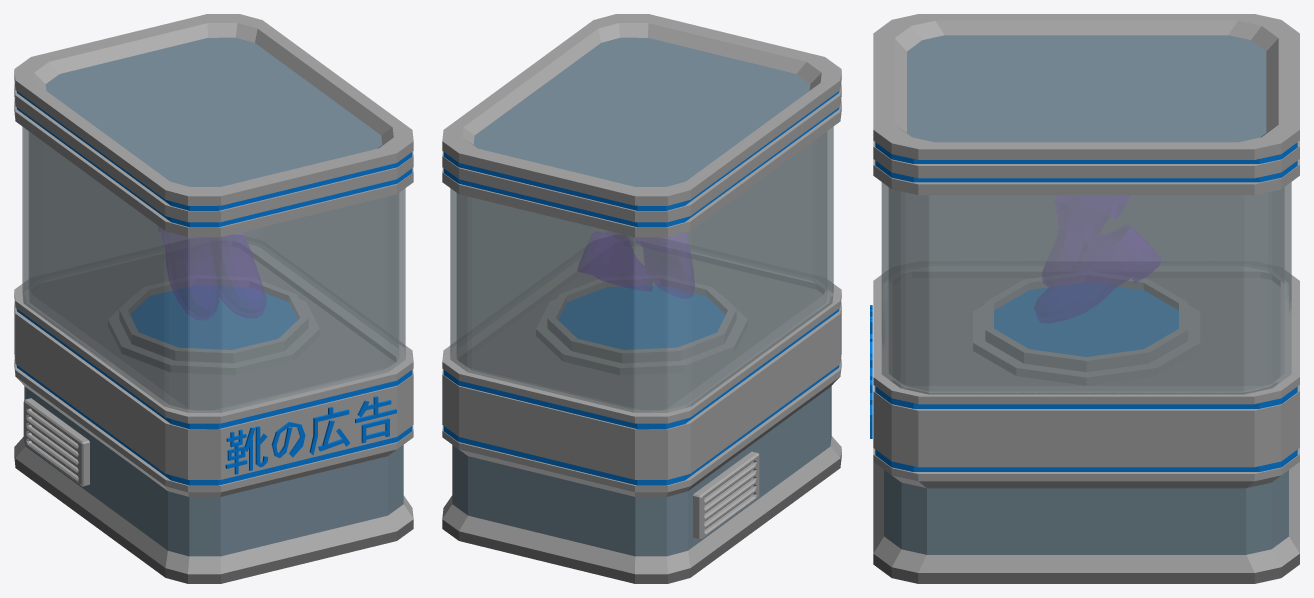
Rendered from short03.fbx.
3 views of the same model, side by side, from view 1: azimuth 30°, elevation 25°; view 2: azimuth 150°, elevation 25°; view 3: azimuth 270°, elevation 25° (orthographic). The views are drawn at different scales.
Parts seen in each view (by area): view 1: baseMini10, baseMini11, pCylinder9, Mini_03, typeMesh4, pasted__pasted__pPlane47; view 2: baseMini10, baseMini11, pCylinder9, Mini_03, pasted__pasted__pPlane47; view 3: baseMini10, baseMini11, pCylinder9, Mini_03.
Boxes of the visible parts, <box> form: baseMini10: <box>14,14,413,583</box>; baseMini11: <box>22,126,405,412</box>; pCylinder9: <box>108,281,319,374</box>; Mini_03: <box>158,227,265,319</box>; typeMesh4: <box>225,396,396,474</box>; pasted__pasted__pPlane47: <box>23,398,89,486</box>; baseMini10: <box>442,14,841,583</box>; baseMini11: <box>450,126,833,412</box>; pCylinder9: <box>536,279,747,374</box>; Mini_03: <box>578,231,694,298</box>; pasted__pasted__pPlane47: <box>693,451,759,539</box>; baseMini10: <box>873,14,1299,583</box>; baseMini11: <box>881,182,1291,394</box>; pCylinder9: <box>973,277,1199,385</box>; Mini_03: <box>1034,196,1160,322</box>.
Size of the model in its own units: 3.02 by 4.5 by 4.03.
